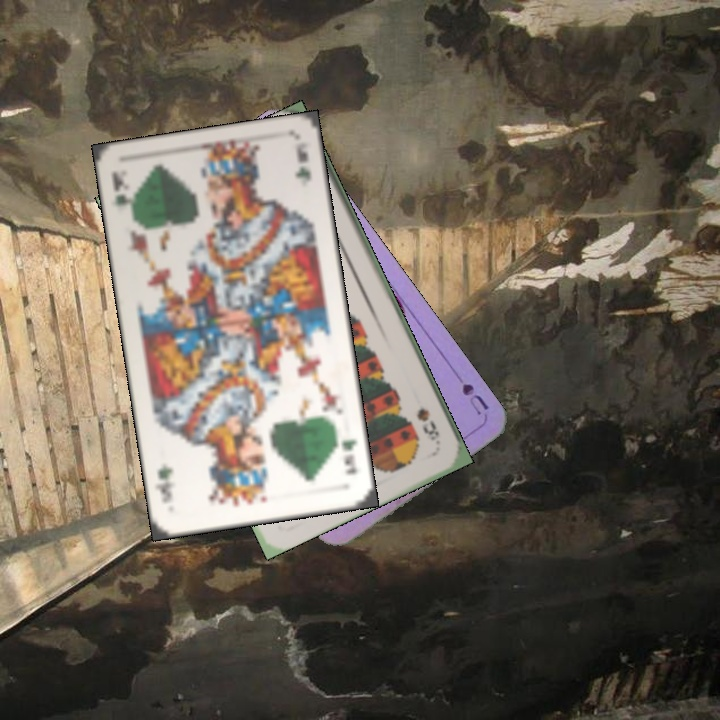GK: (107, 167, 134, 205), (338, 435, 360, 477)
S8: (412, 404, 444, 448)
SU: (447, 365, 492, 418)
